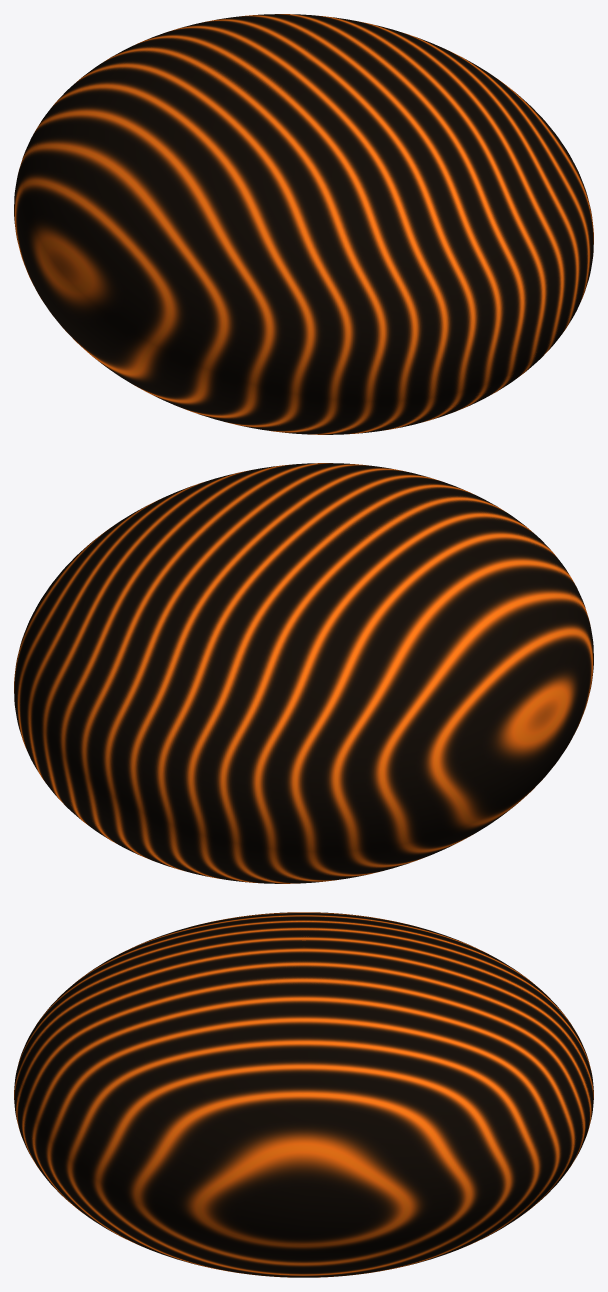
Rendered from tiger-eye.glb.
The picture shows the model from 3 angles, top to bottom: view 1: azimuth 30°, elevation 25°; view 2: azimuth 150°, elevation 25°; view 3: azimuth 270°, elevation 25°; orthographic projection. The views are drawn at different scales.
Parts seen in each view (by area): view 1: tiger-eye.001; view 2: tiger-eye.001; view 3: tiger-eye.001.
Boxes of the visible parts, x1=… form: tiger-eye.001: x1=14, y1=14, x2=593, y2=434; tiger-eye.001: x1=14, y1=463, x2=593, y2=883; tiger-eye.001: x1=14, y1=912, x2=593, y2=1277.
Size of the model in its own units: 2.17 by 1.41 by 2.5.
1 material, 1 textured.
